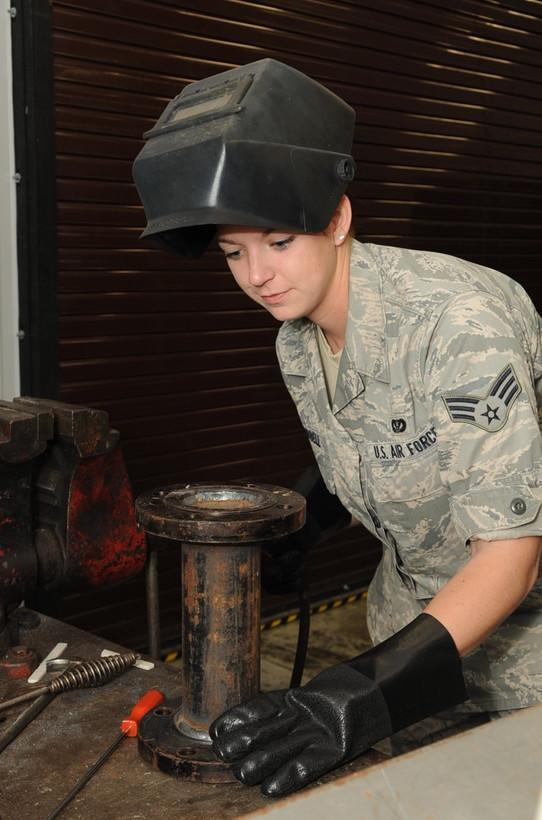Ear-protection: (113, 16, 542, 771)
